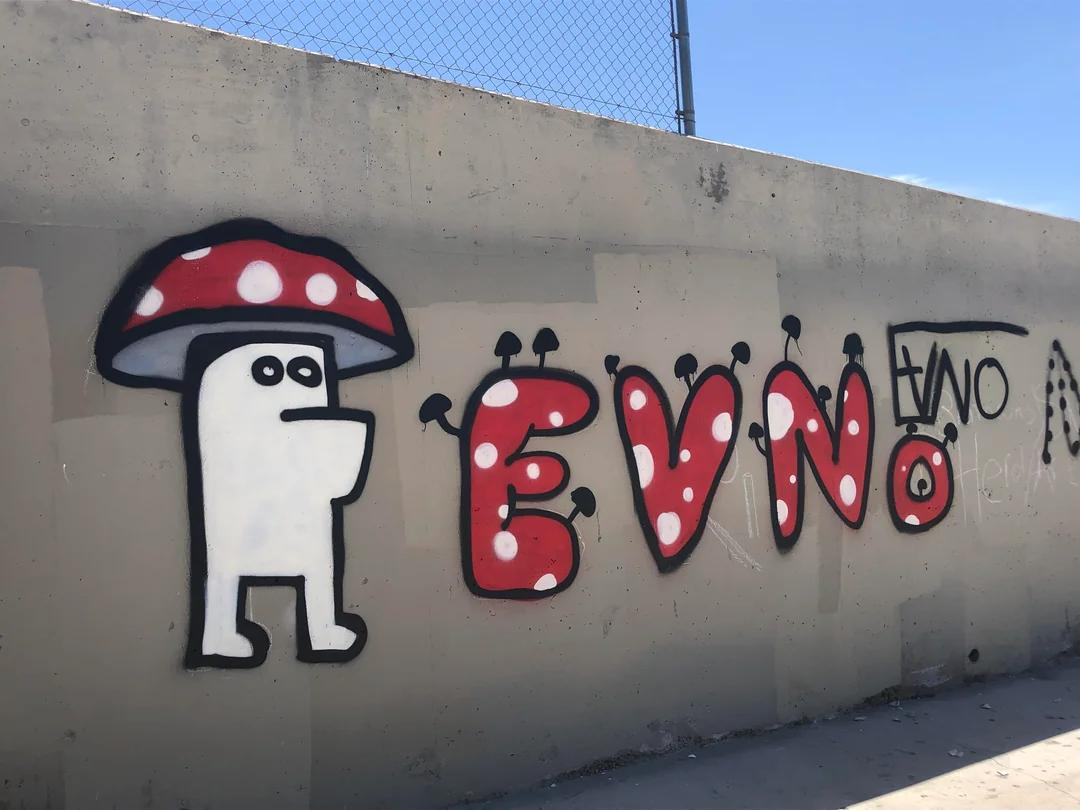graffiti: (432, 323, 1039, 605), (103, 219, 411, 696)
